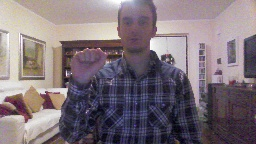Pugno: (69, 46, 108, 84)
